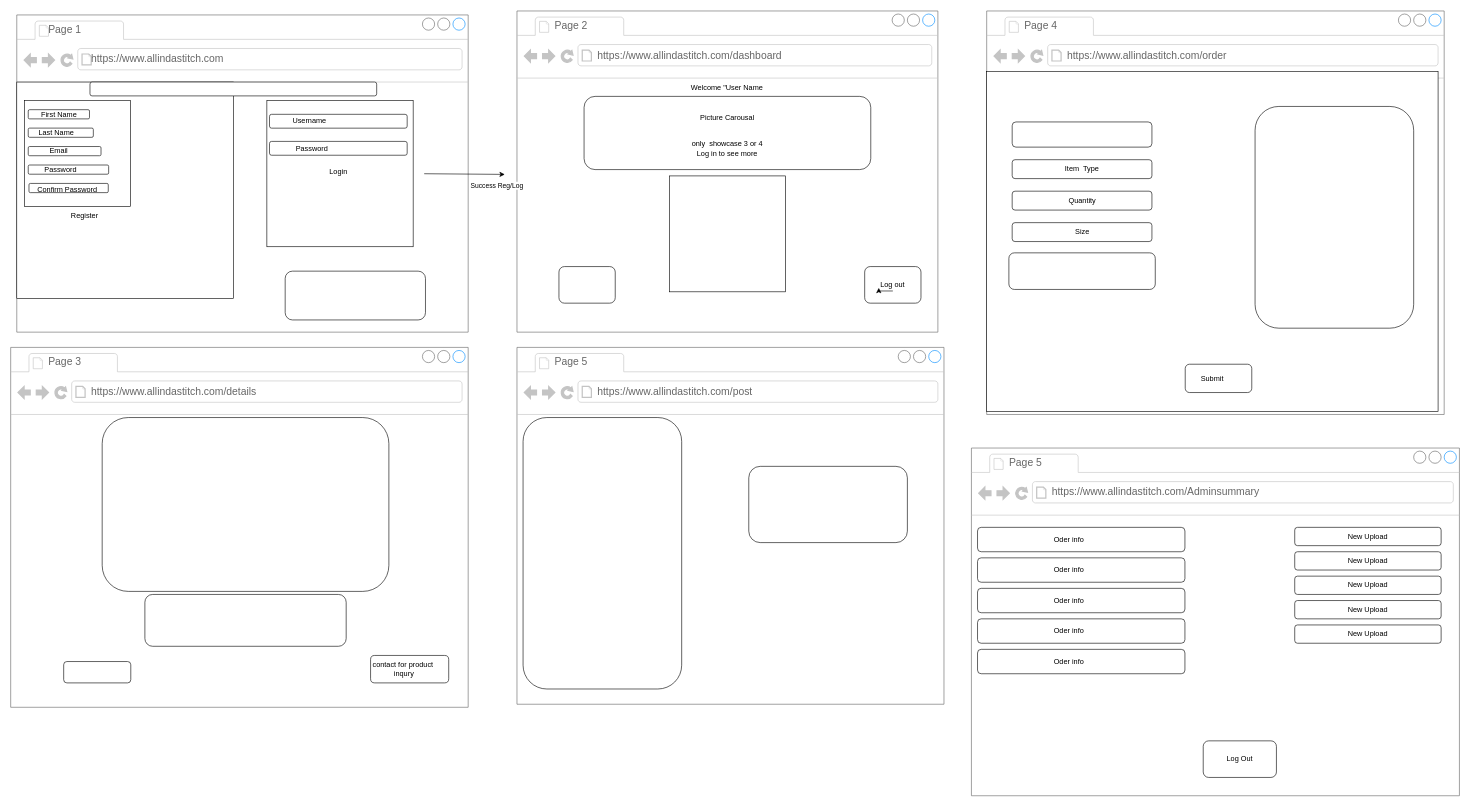
Some shapes in this 1470 by 806 pixel diagram are drawn without their labels. Each missing label, with the centre of its shape:
AllinDastitch Product Gallery: the point at 233,88
Back: the point at 97,672
Desired Delivery Date: the point at 1082,134
Details of Garment / Design: the point at 827,504
Details of the design: the point at 245,620
If you have a Photo Upload: the point at 1334,217
Look into login through FB or Insta (Oauth): the point at 355,295
Order custom work: the point at 586,284
Picture: the point at 245,504
Please Provide concise details: the point at 1081,270
Post a pic: the point at 727,233
Uploaded Picture: the point at 602,553
